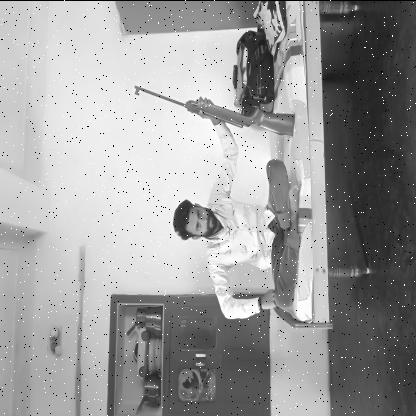rifle: (134, 84, 296, 137)
